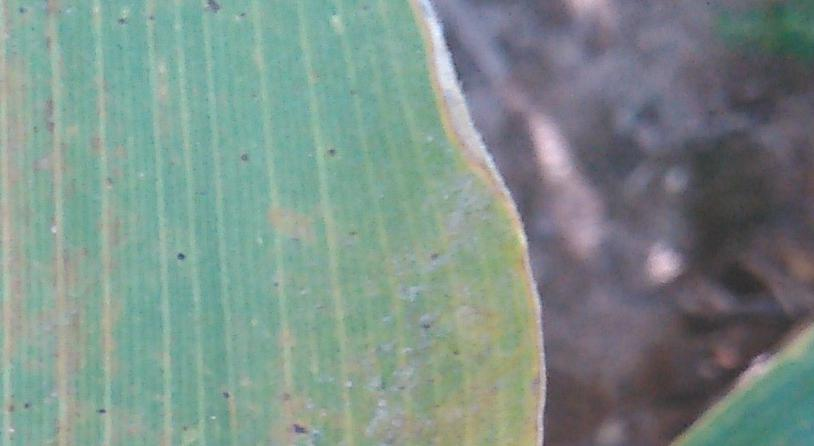tarspot: (286, 419, 315, 437), (11, 1, 31, 17), (217, 385, 233, 404), (102, 169, 116, 188), (206, 1, 222, 16), (417, 317, 433, 332), (447, 345, 463, 360), (113, 12, 127, 29), (91, 402, 108, 416), (344, 224, 360, 238), (175, 419, 191, 433), (6, 400, 18, 417), (174, 249, 187, 263), (325, 144, 338, 158), (28, 122, 41, 136), (428, 250, 443, 262), (269, 277, 282, 290), (237, 151, 249, 165), (20, 400, 34, 411), (145, 11, 156, 24), (238, 9, 248, 20)
